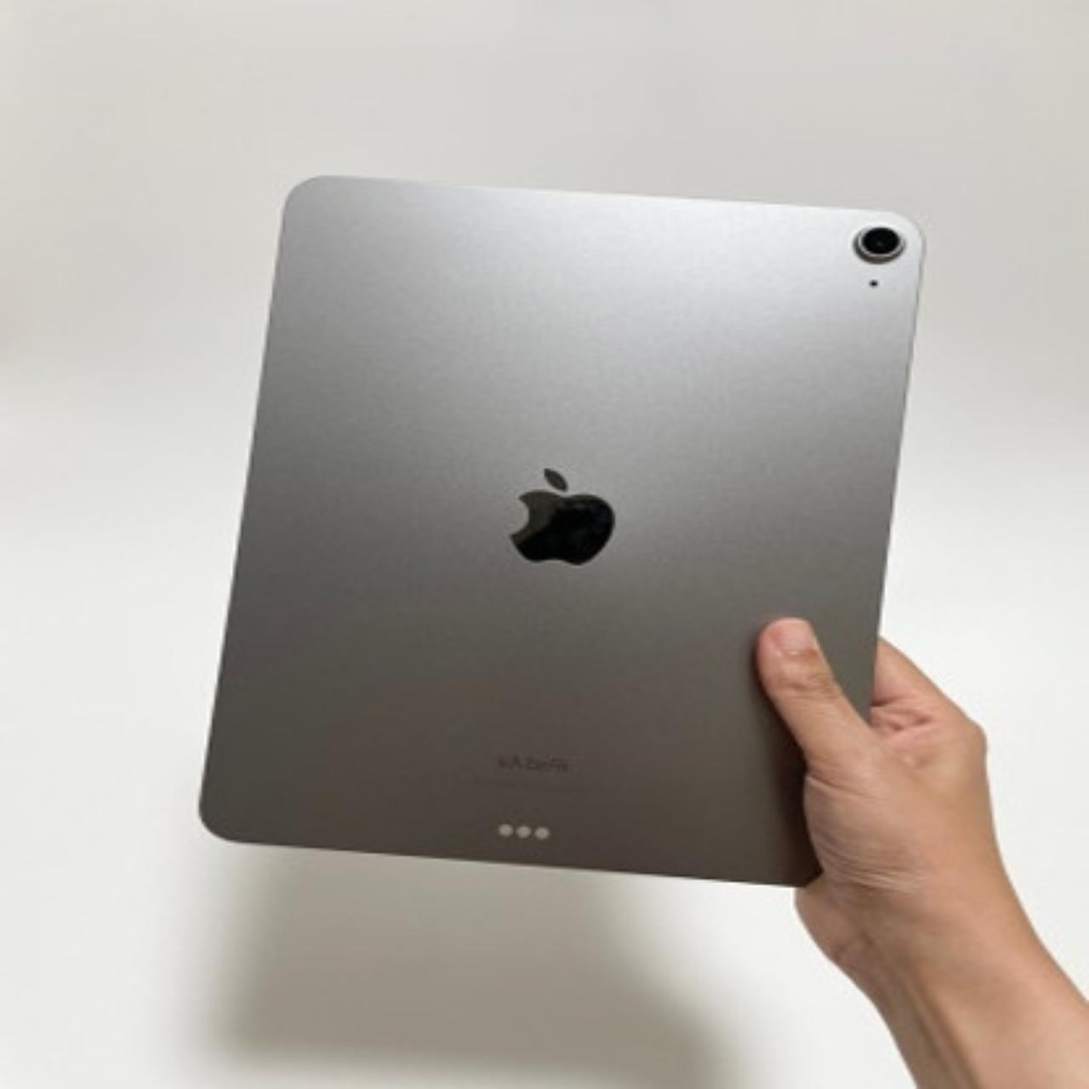Tablet_PC: (176, 163, 937, 901)
